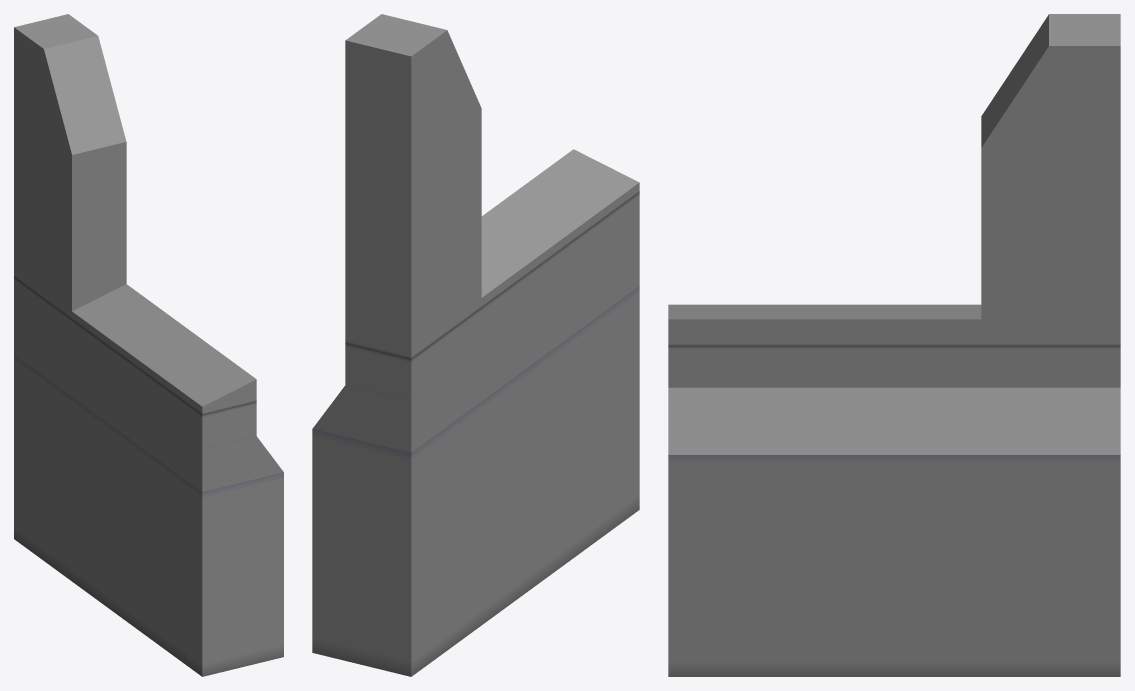
The model's file is SW_PROP_TicketReaderGateEnd.fbx.
3 views of the same model, side by side, from view 1: azimuth 30°, elevation 25°; view 2: azimuth 150°, elevation 25°; view 3: azimuth 270°, elevation 25° (orthographic). The views are drawn at different scales.
Visible parts, largest first — view 1: SW_PROP_TicketReaderGateEnd; view 2: SW_PROP_TicketReaderGateEnd; view 3: SW_PROP_TicketReaderGateEnd.
Boxes of the visible parts, x1,y1,x2,y2 form: SW_PROP_TicketReaderGateEnd: [14, 14, 283, 676]; SW_PROP_TicketReaderGateEnd: [312, 14, 639, 676]; SW_PROP_TicketReaderGateEnd: [668, 14, 1120, 676].
Size of the model in its own units: 0.3 by 1.8 by 1.2.
